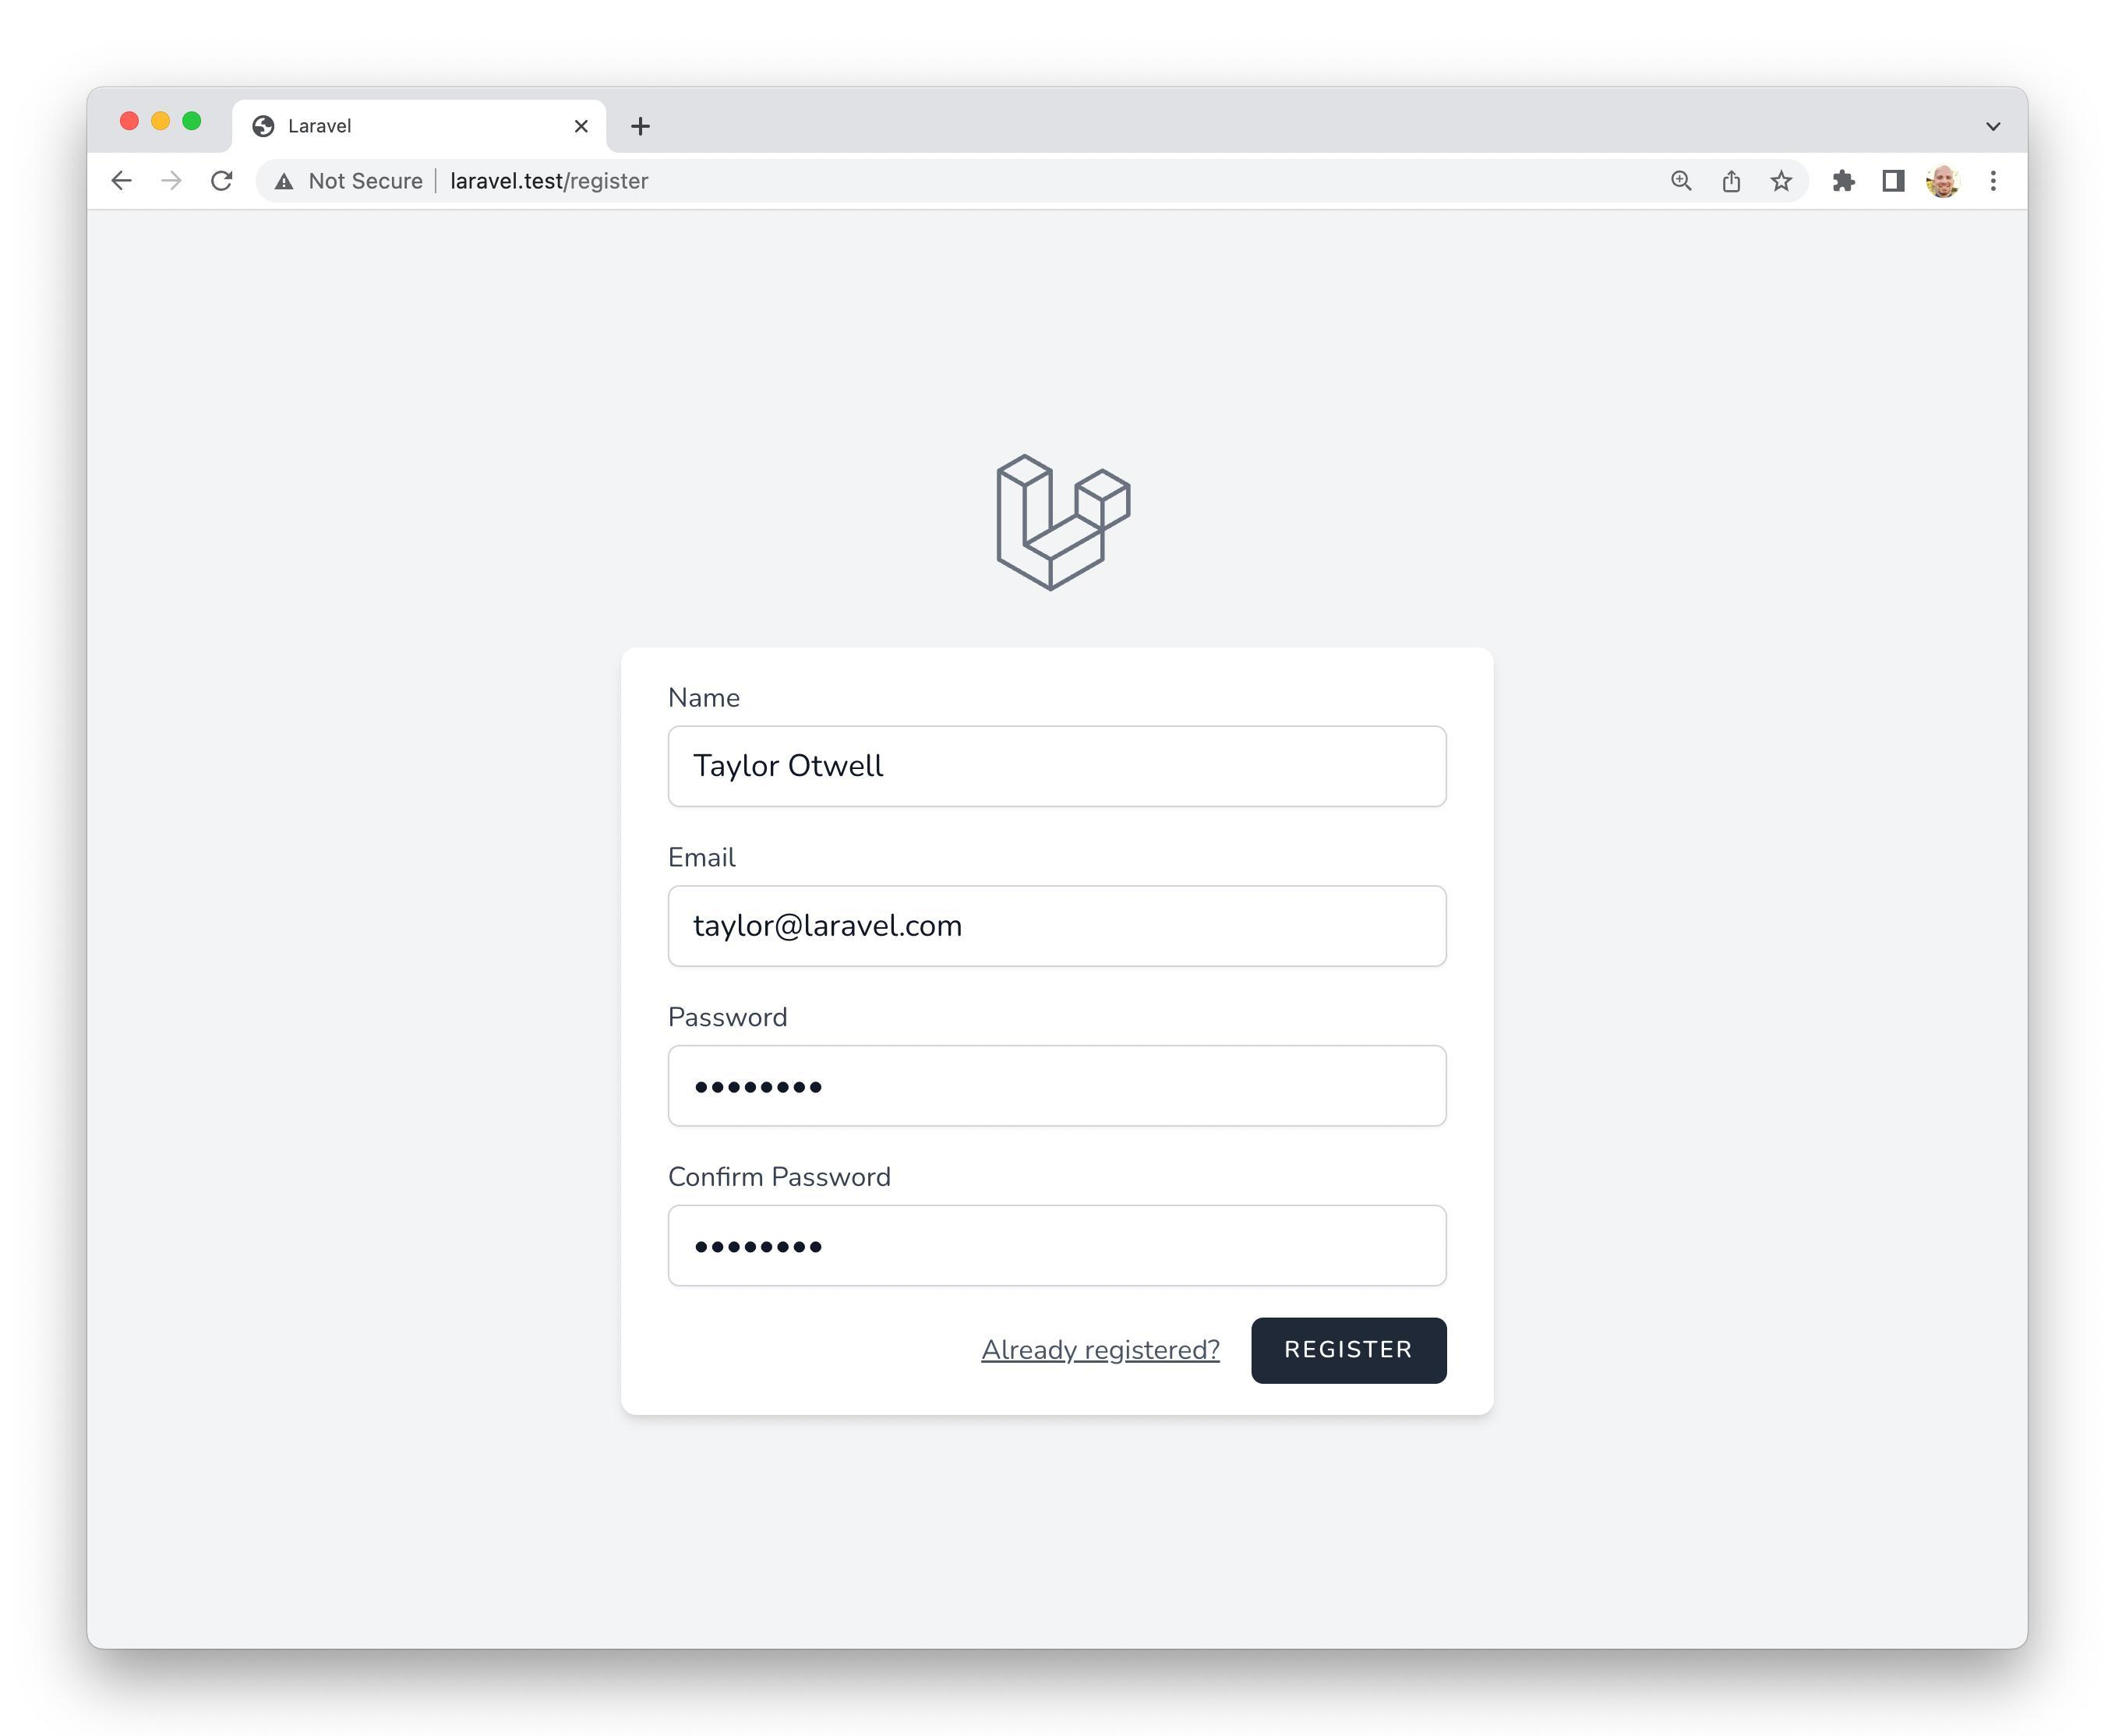button: (1254, 1314, 1447, 1388)
icon: (1880, 165, 1913, 200), (1822, 167, 1857, 199), (1976, 112, 2011, 141), (158, 167, 186, 197), (1769, 167, 1795, 199), (1720, 170, 1748, 199), (1669, 167, 1695, 197), (249, 114, 279, 141), (1985, 165, 2010, 197), (209, 169, 235, 197), (272, 167, 297, 197), (627, 114, 657, 139), (569, 118, 597, 142), (111, 172, 135, 195)
input: (673, 1042, 1449, 1128), (664, 1204, 1453, 1286), (671, 887, 1444, 970), (673, 726, 1444, 808)
label: (664, 1154, 899, 1200), (648, 678, 752, 726), (664, 1000, 796, 1037), (666, 835, 748, 887)
